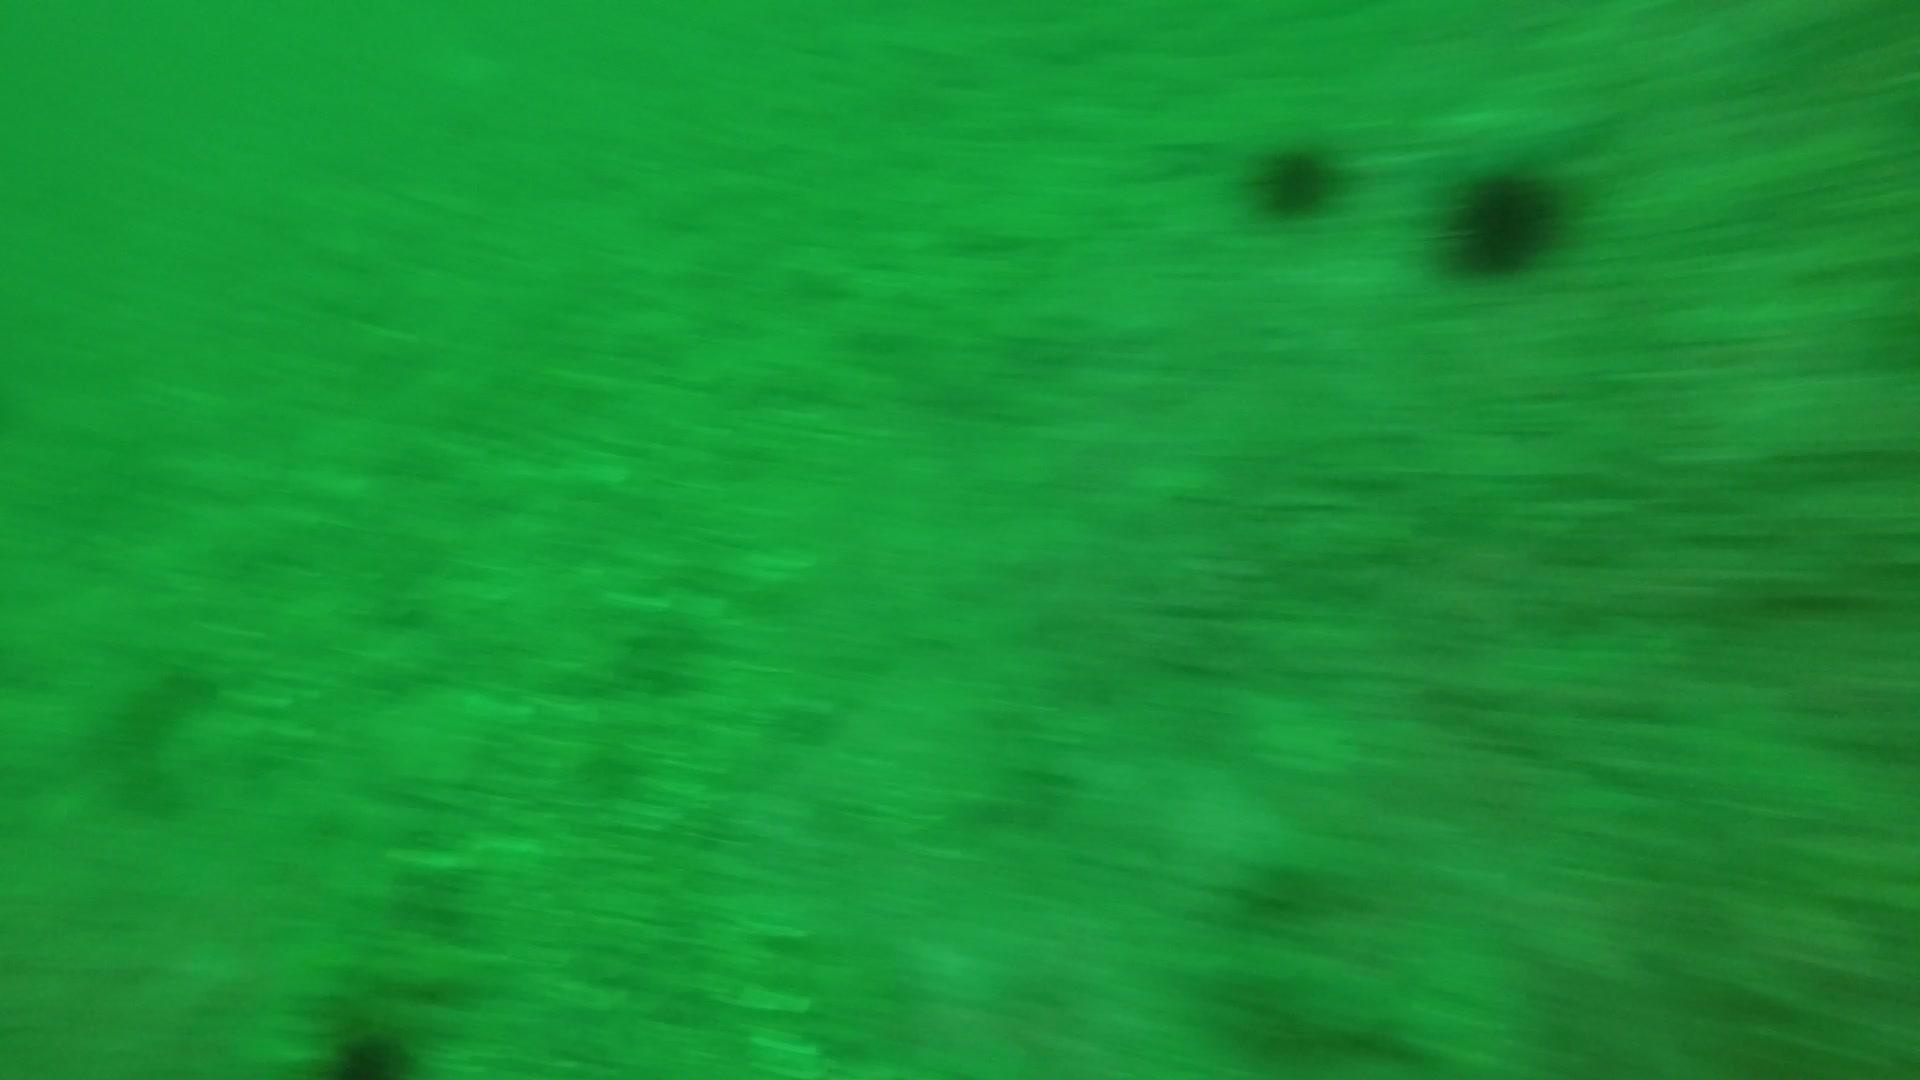echinus: (1433, 156, 1571, 284), (1241, 131, 1349, 225), (319, 1015, 421, 1079)
